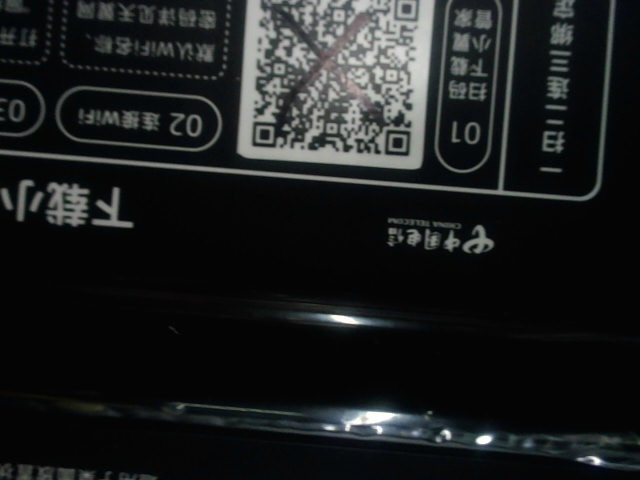AB_ChinaTelecom: (380, 208, 509, 257)
